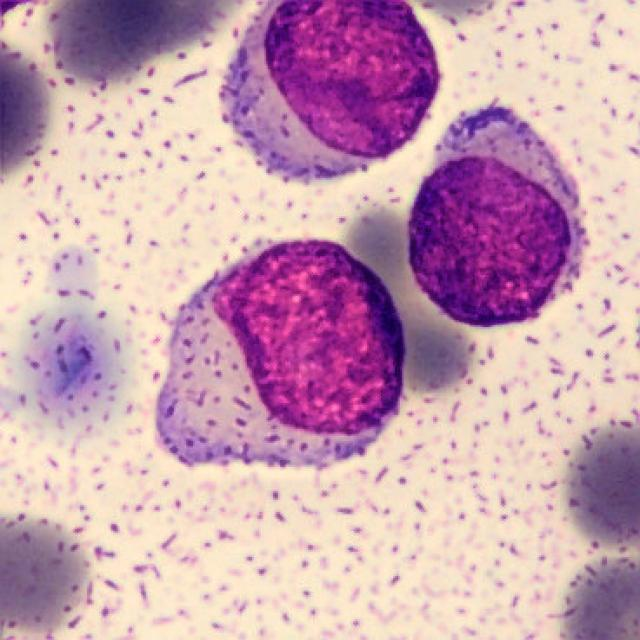Mieloblasto: (155, 240, 407, 470), (223, 0, 442, 180), (407, 111, 586, 329)
